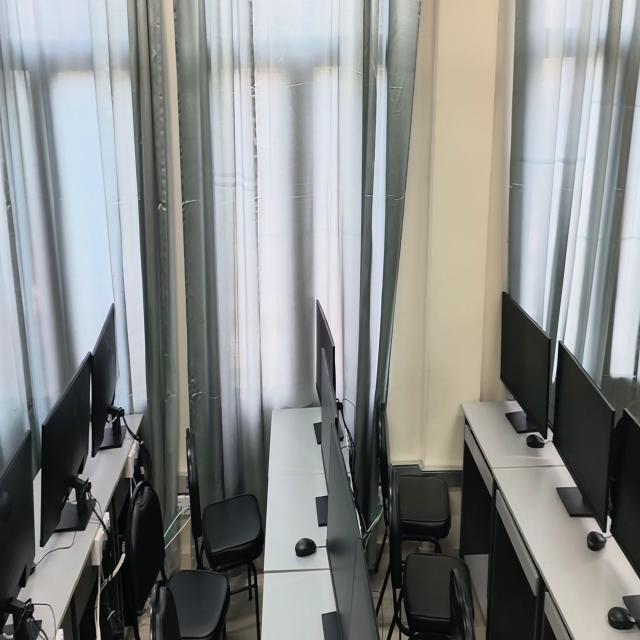Chair: (123, 481, 231, 639), (186, 428, 264, 639), (387, 481, 475, 639), (395, 465, 451, 552), (449, 569, 475, 639), (150, 585, 180, 639)
Monitor: (553, 343, 615, 530), (41, 354, 92, 546), (0, 432, 42, 639), (500, 293, 550, 438), (322, 449, 360, 639), (610, 409, 640, 578), (92, 303, 124, 457), (347, 538, 379, 639), (316, 300, 336, 399), (321, 348, 336, 480)
Mouse: (608, 606, 634, 629), (295, 537, 316, 556), (587, 531, 606, 551), (526, 433, 545, 448)
